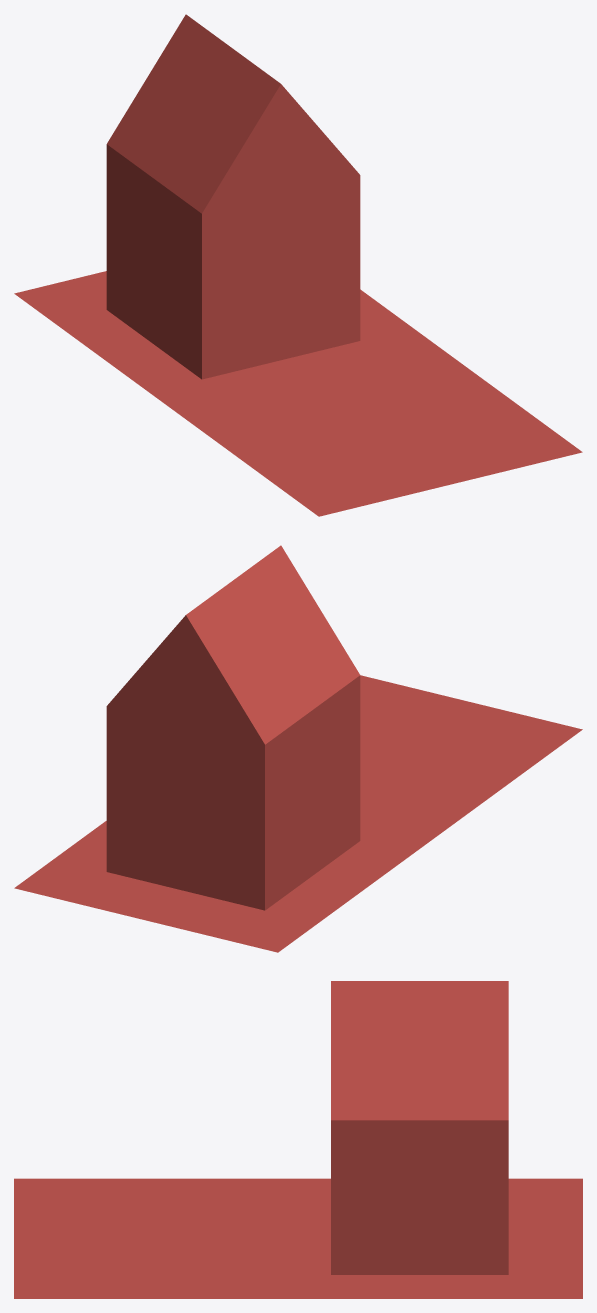
Rendered from 1x2 House w Front.fbx.
The picture shows the model from 3 angles, top to bottom: view 1: azimuth 30°, elevation 25°; view 2: azimuth 150°, elevation 25°; view 3: azimuth 270°, elevation 25°; orthographic projection. The views are drawn at different scales.
Visible parts, largest first — view 1: 1x2 House w Front; view 2: 1x2 House w Front; view 3: 1x2 House w Front.
Part boxes in pixels (x1,y1,x2,y2): 1x2 House w Front: (14,14,582,516); 1x2 House w Front: (14,545,582,952); 1x2 House w Front: (14,981,582,1298).
Bounding box in the file's own units: 1 × 1 × 2.
